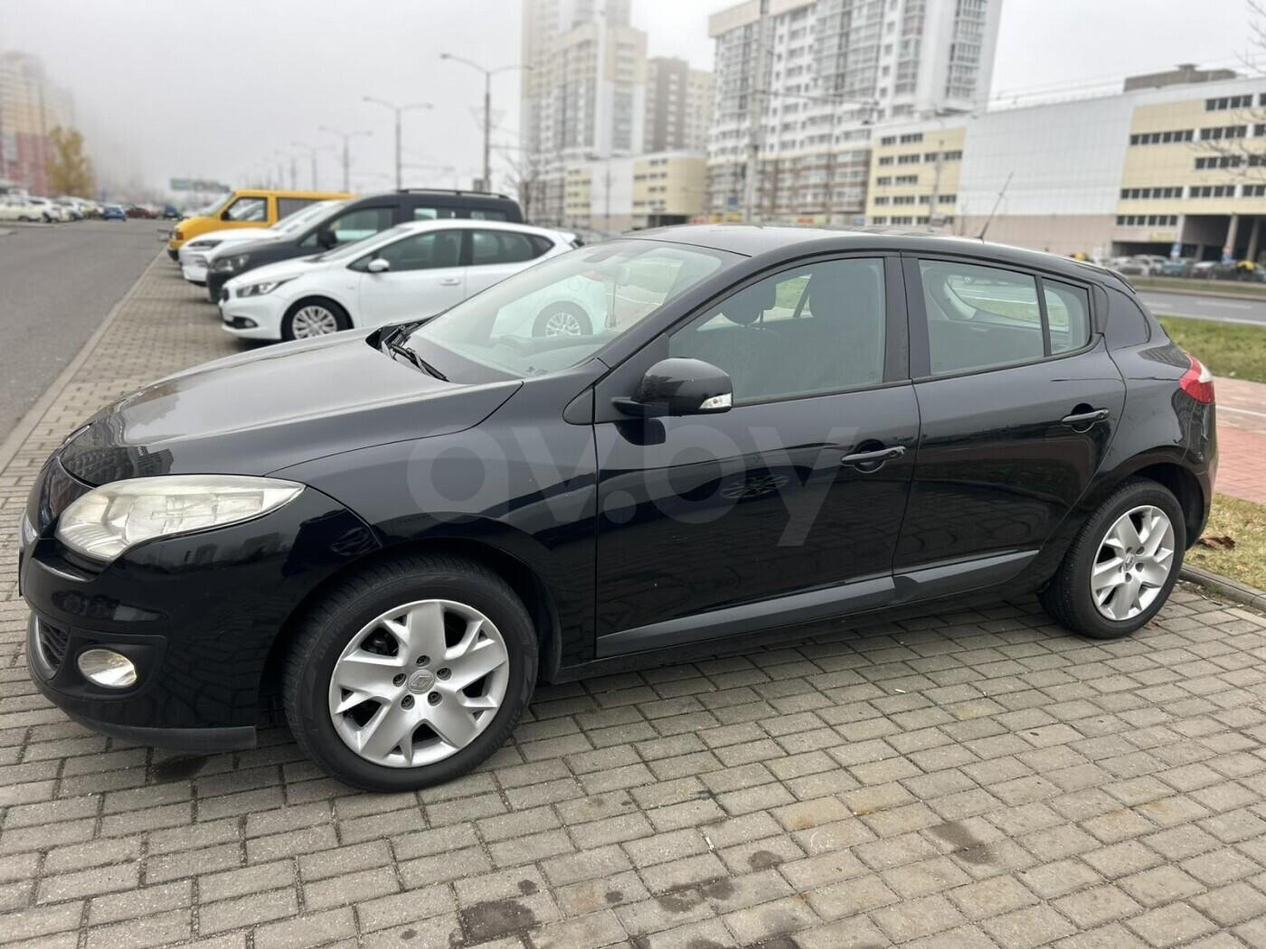Megane_2008-2014: (18, 221, 1221, 794)
